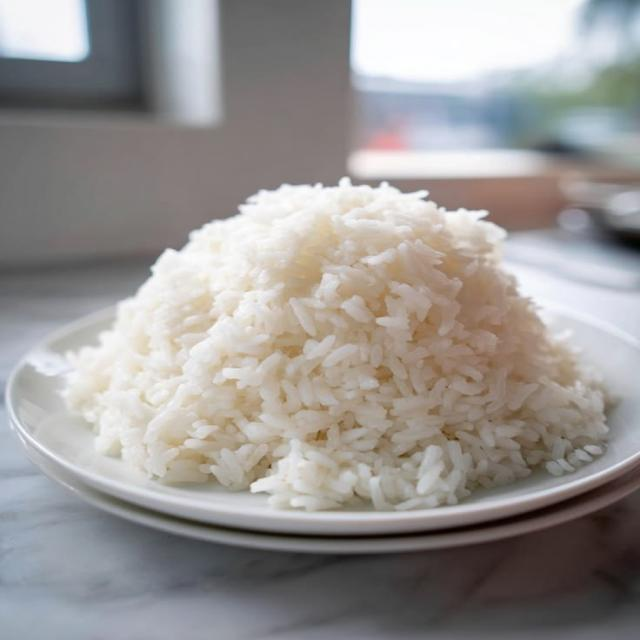rice: (65, 179, 606, 509)
